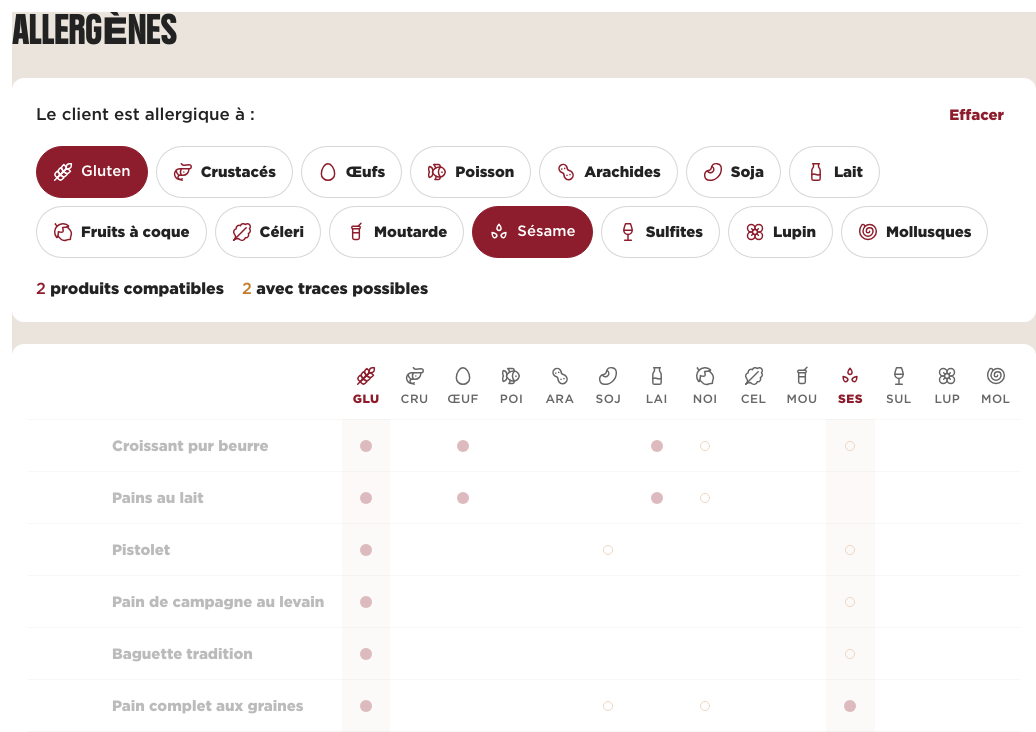
Scenario: AllergensView › reset clears the selection
Click the button "Effacer": [977, 115] box [941,93,1012,137]
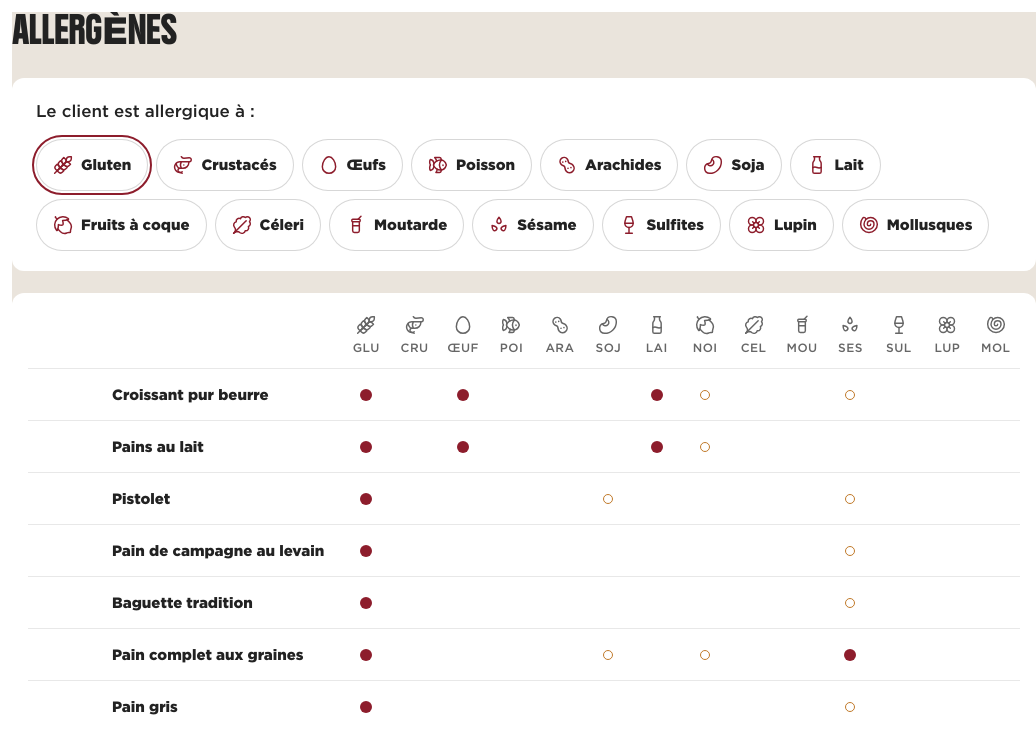
Check: the button "Effacer" is gone
